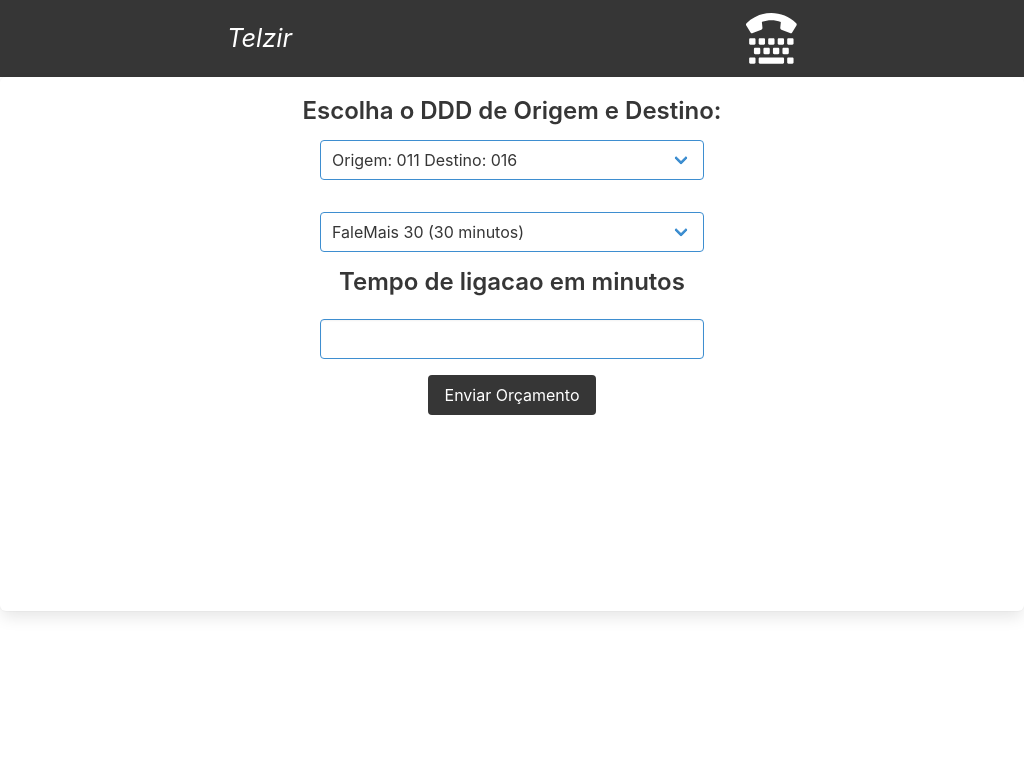
it: Verifica os elementos da tela de orçamento › Verificando que, ao digitar no campo tempo de ligação e clicar em Enviar Orçamento, o orçamento é renderizado
In the field labelled "Tempo de ligacao em minutos": (512, 339) [320, 319, 704, 359], type "5"
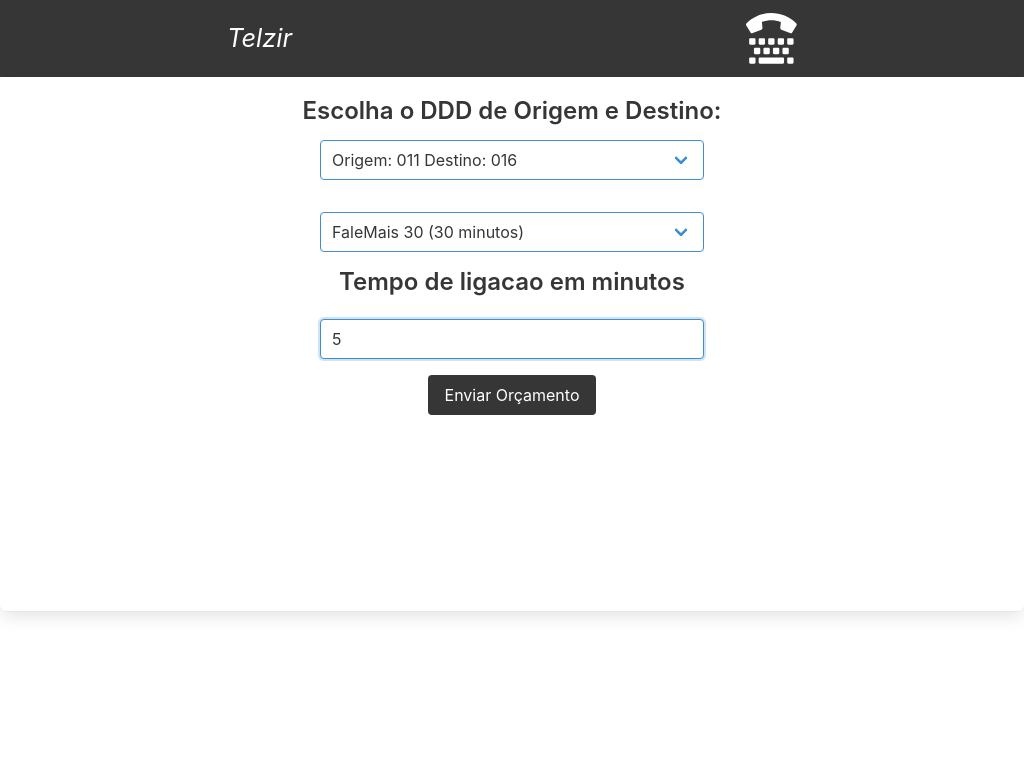
Click the button with test id "id-send": (512, 395) [428, 375, 596, 415]
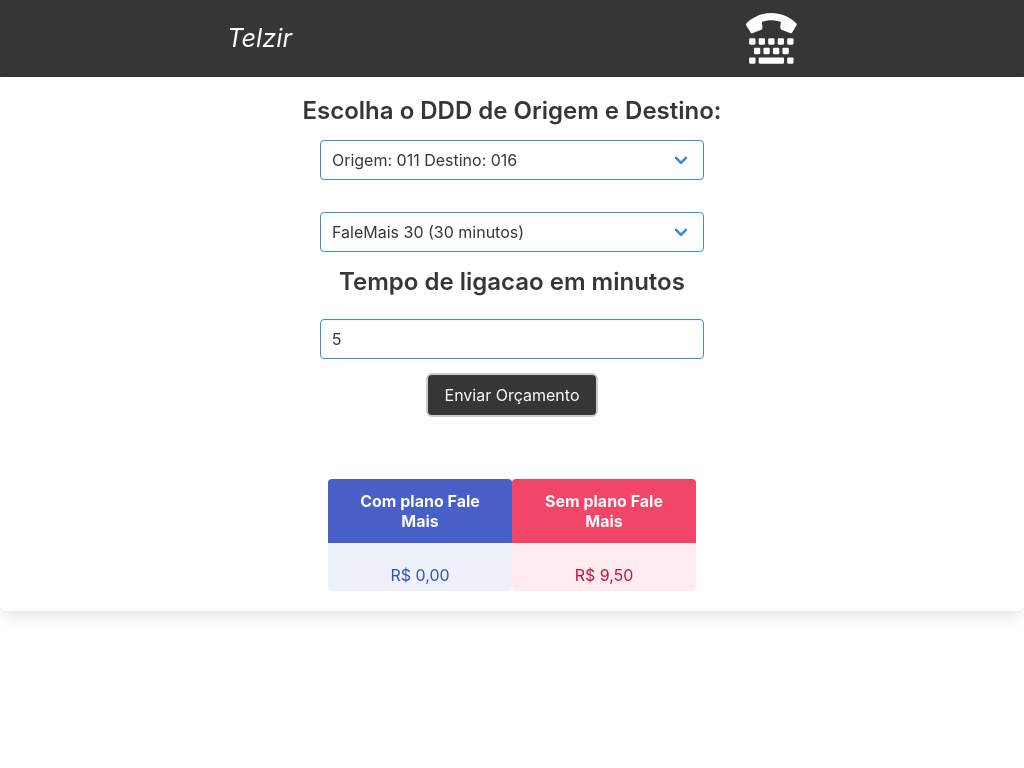
Check: the number of elements with test id "quote-value" is 2, box [390, 565, 450, 585]; [575, 565, 633, 585]
